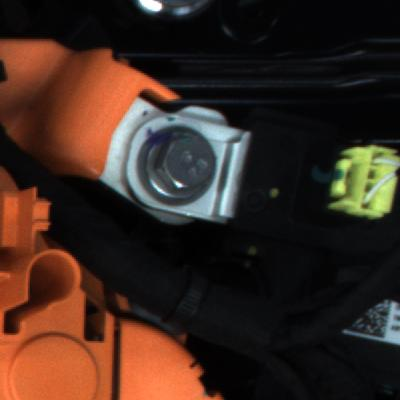nut_b: (129, 125, 230, 212)
